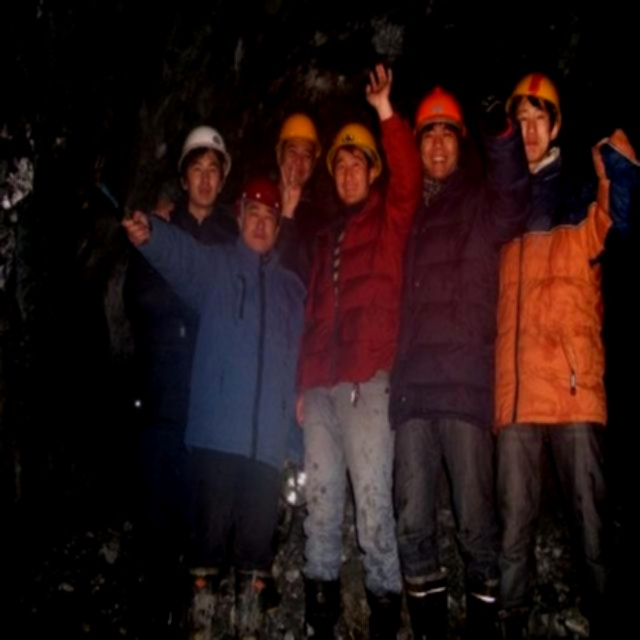Con_Casco: (505, 72, 564, 163), (177, 127, 232, 207), (277, 112, 319, 184)
